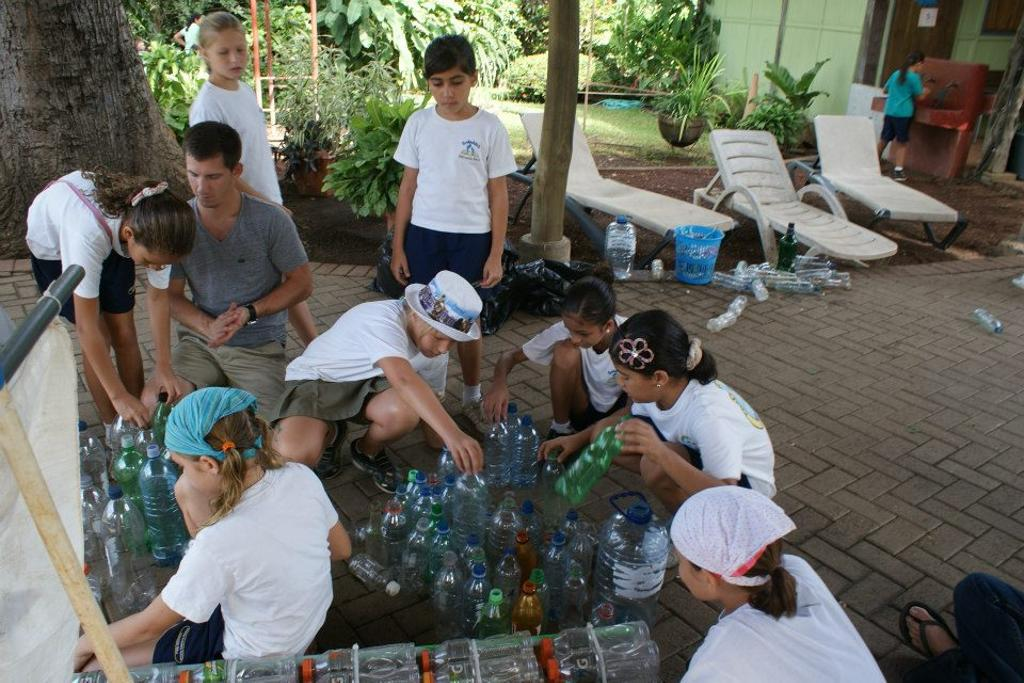face: (172, 451, 219, 498), (186, 160, 232, 208), (613, 360, 658, 404), (429, 68, 471, 113), (129, 238, 184, 271), (419, 318, 462, 358), (563, 313, 604, 349), (213, 37, 247, 80), (678, 544, 703, 601), (917, 62, 925, 72)
